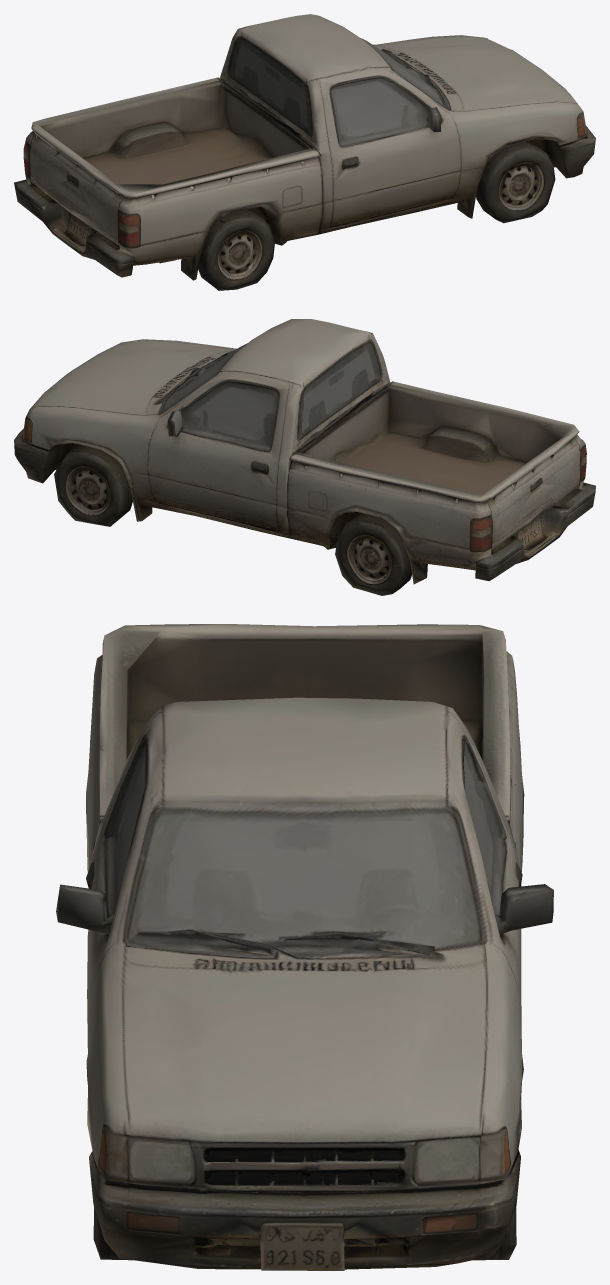
File: Car 3.fbx
3 views of the same model, one above another, from view 1: azimuth 30°, elevation 25°; view 2: azimuth 150°, elevation 25°; view 3: azimuth 270°, elevation 25° (orthographic). The views are drawn at different scales.
Visible parts, largest first — view 1: tripo_node_7b7505c0-02a9-4898-b3eb-3e0a1fef00ed; view 2: tripo_node_7b7505c0-02a9-4898-b3eb-3e0a1fef00ed; view 3: tripo_node_7b7505c0-02a9-4898-b3eb-3e0a1fef00ed.
Boxes of the visible parts, x1,y1,x2,y2 form: tripo_node_7b7505c0-02a9-4898-b3eb-3e0a1fef00ed: [14, 14, 595, 290]; tripo_node_7b7505c0-02a9-4898-b3eb-3e0a1fef00ed: [14, 319, 595, 595]; tripo_node_7b7505c0-02a9-4898-b3eb-3e0a1fef00ed: [56, 624, 553, 1270].
Bounding box in the file's own units: 100 × 34.77 × 43.6.
1 material, 1 textured.
